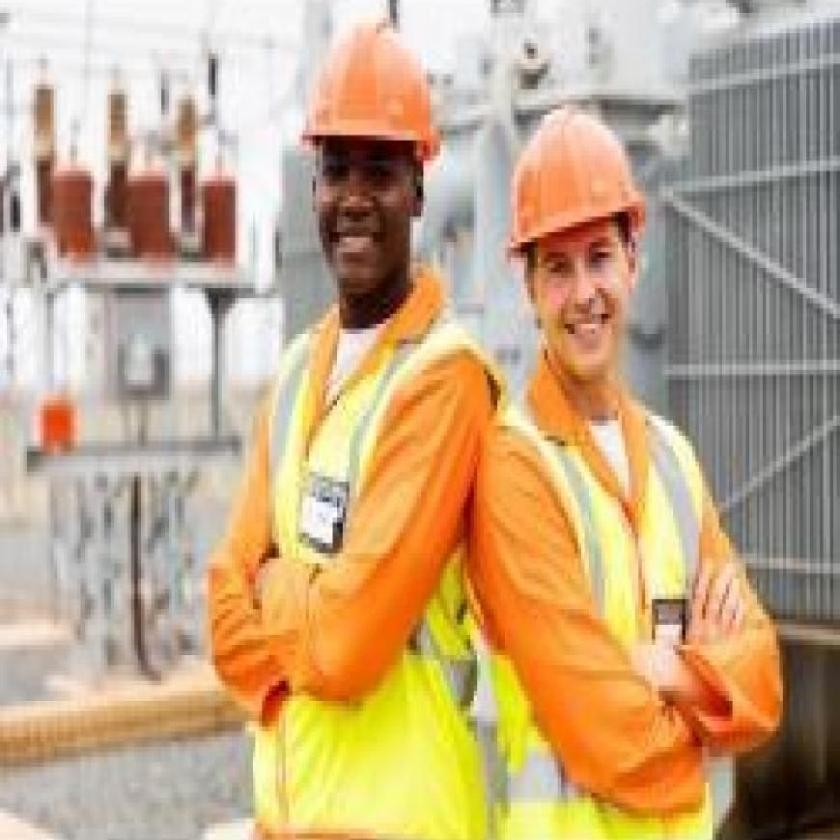Con_casco: (500, 70, 662, 366), (303, 29, 441, 301)
